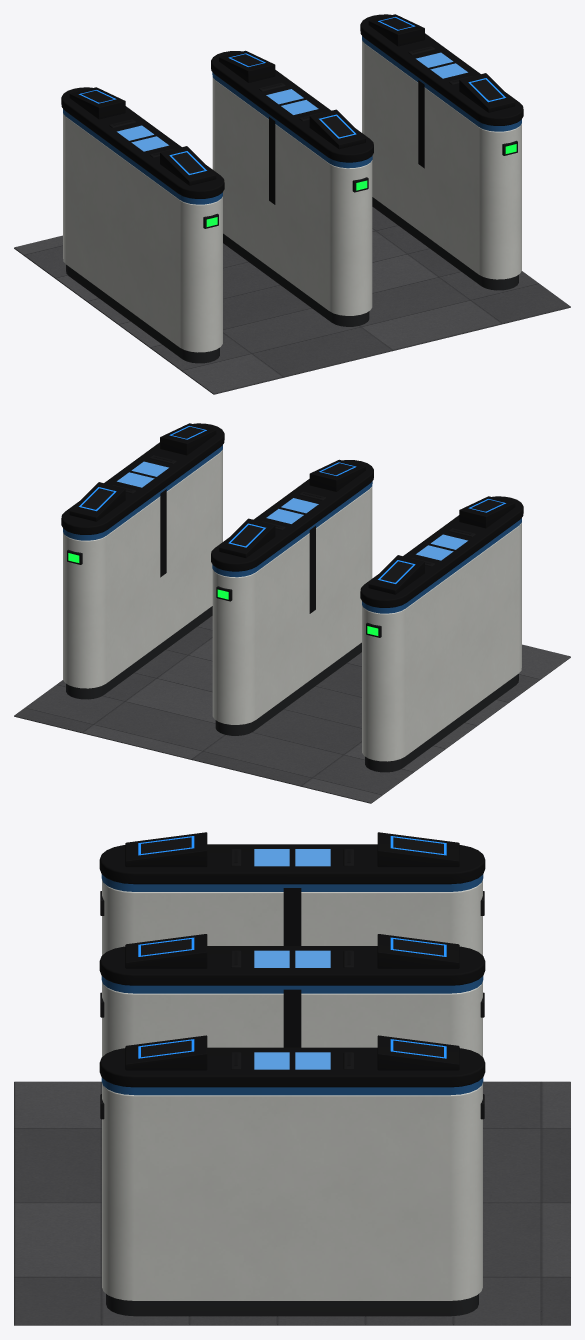
The model's file is gteki_gate_array_2.glb.
3 renders of one model, top to bottom at view 1: azimuth 30°, elevation 25°; view 2: azimuth 150°, elevation 25°; view 3: azimuth 270°, elevation 25°, orthographic. The views are drawn at different scales.
Parts seen in each view (by area): view 1: VIS_cabinets, VIS_floor; view 2: VIS_cabinets, VIS_floor; view 3: VIS_cabinets, VIS_floor.
Boxes of the visible parts, x1,y1,x2,y2 form: VIS_cabinets: (61, 14, 523, 363); VIS_floor: (14, 207, 570, 394); VIS_cabinets: (61, 423, 523, 772); VIS_floor: (14, 616, 570, 803); VIS_cabinets: (99, 832, 485, 1316); VIS_floor: (14, 1081, 570, 1325).
Size of what is drawn, in the model's own units: 1.96 by 0.9846 by 1.9.
Materials: 11 (2 with a texture image).
